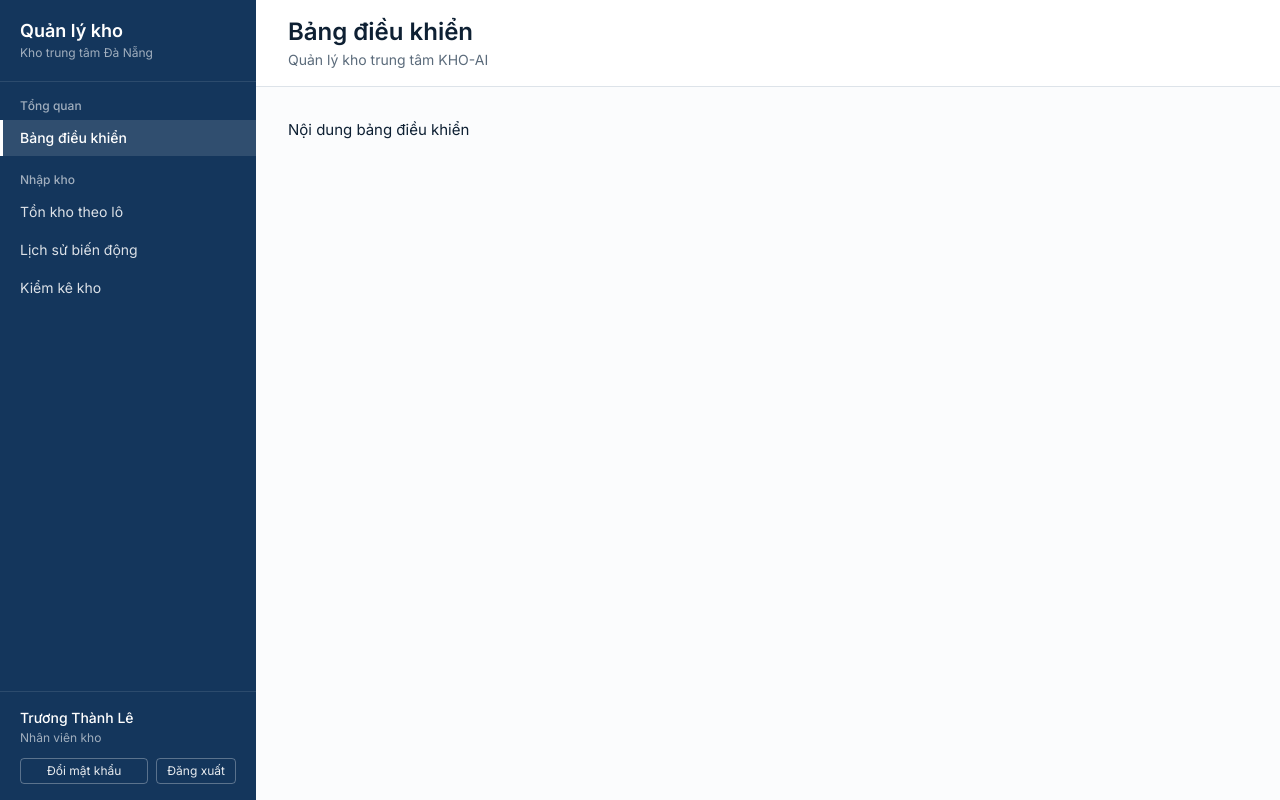
Test: AppLayout & ProtectedRoute (AC8) › hiển thị nút Đổi mật khẩu cạnh Đăng xuất và mở dialog đổi mật khẩu (T-020 AC6)
Expected: the text "Nội dung bảng điều khiển" is shown, [288,120,469,139]
Click the button "Đổi mật khẩu".
click(84, 771)  # box [20,758,148,784]
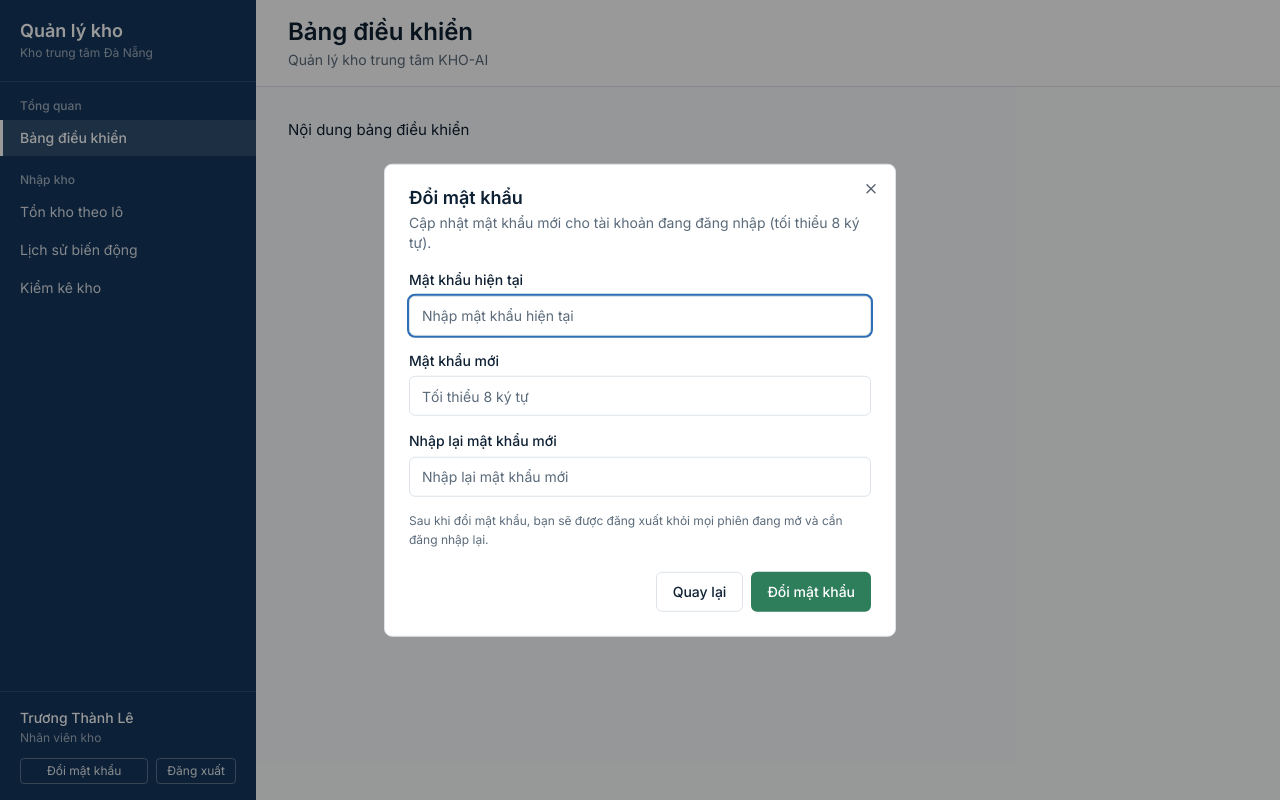
Expected: the dialog is shown, [384,164,896,636]
Expected: the password field labelled "Mật khẩu hiện tại" is shown, [409,295,871,335]
Expected: the password field labelled "Mật khẩu mới" is shown, [409,376,871,416]
